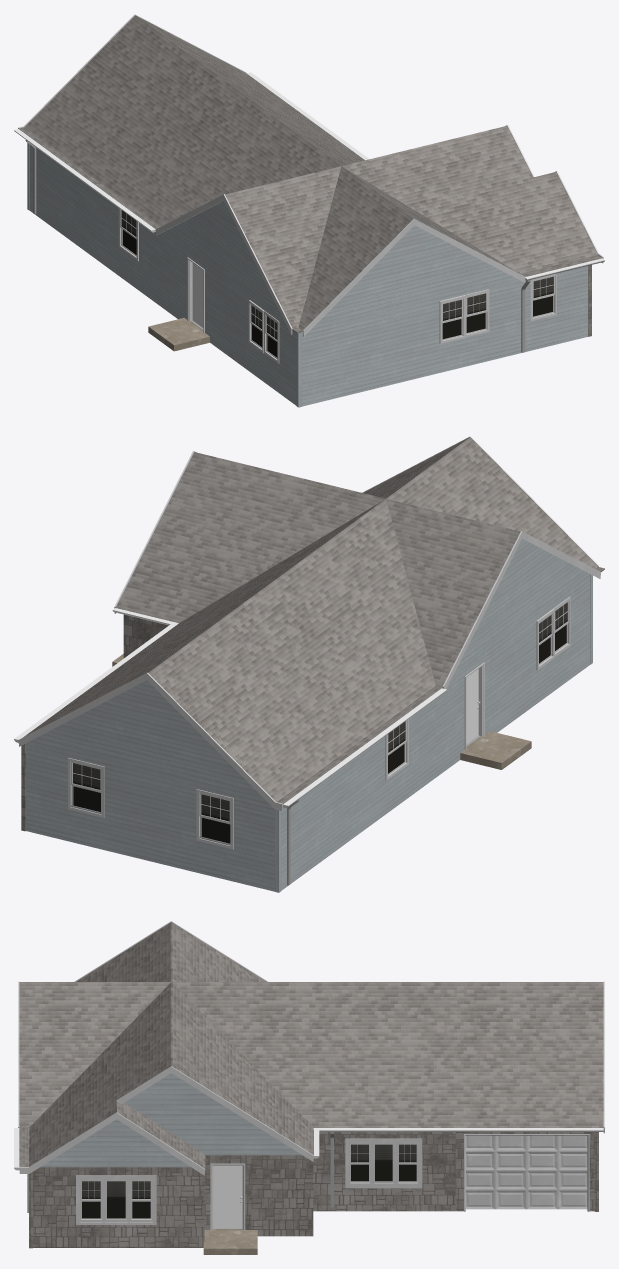
File: home-6.glb
3 renders of one model, top to bottom at view 1: azimuth 30°, elevation 25°; view 2: azimuth 150°, elevation 25°; view 3: azimuth 270°, elevation 25°, orthographic. The views are drawn at different scales.
Visible parts, largest first — view 1: Home6_col_V4; view 2: Home6_col_V4; view 3: Home6_col_V4.
Boxes of the visible parts, box(x1,y1,x2,y2) form: Home6_col_V4: box(14, 14, 604, 407); Home6_col_V4: box(14, 436, 604, 892); Home6_col_V4: box(14, 921, 604, 1254).
Size of the model in its own units: 12.19 by 5.63 by 17.38.
1 material, 1 textured.
